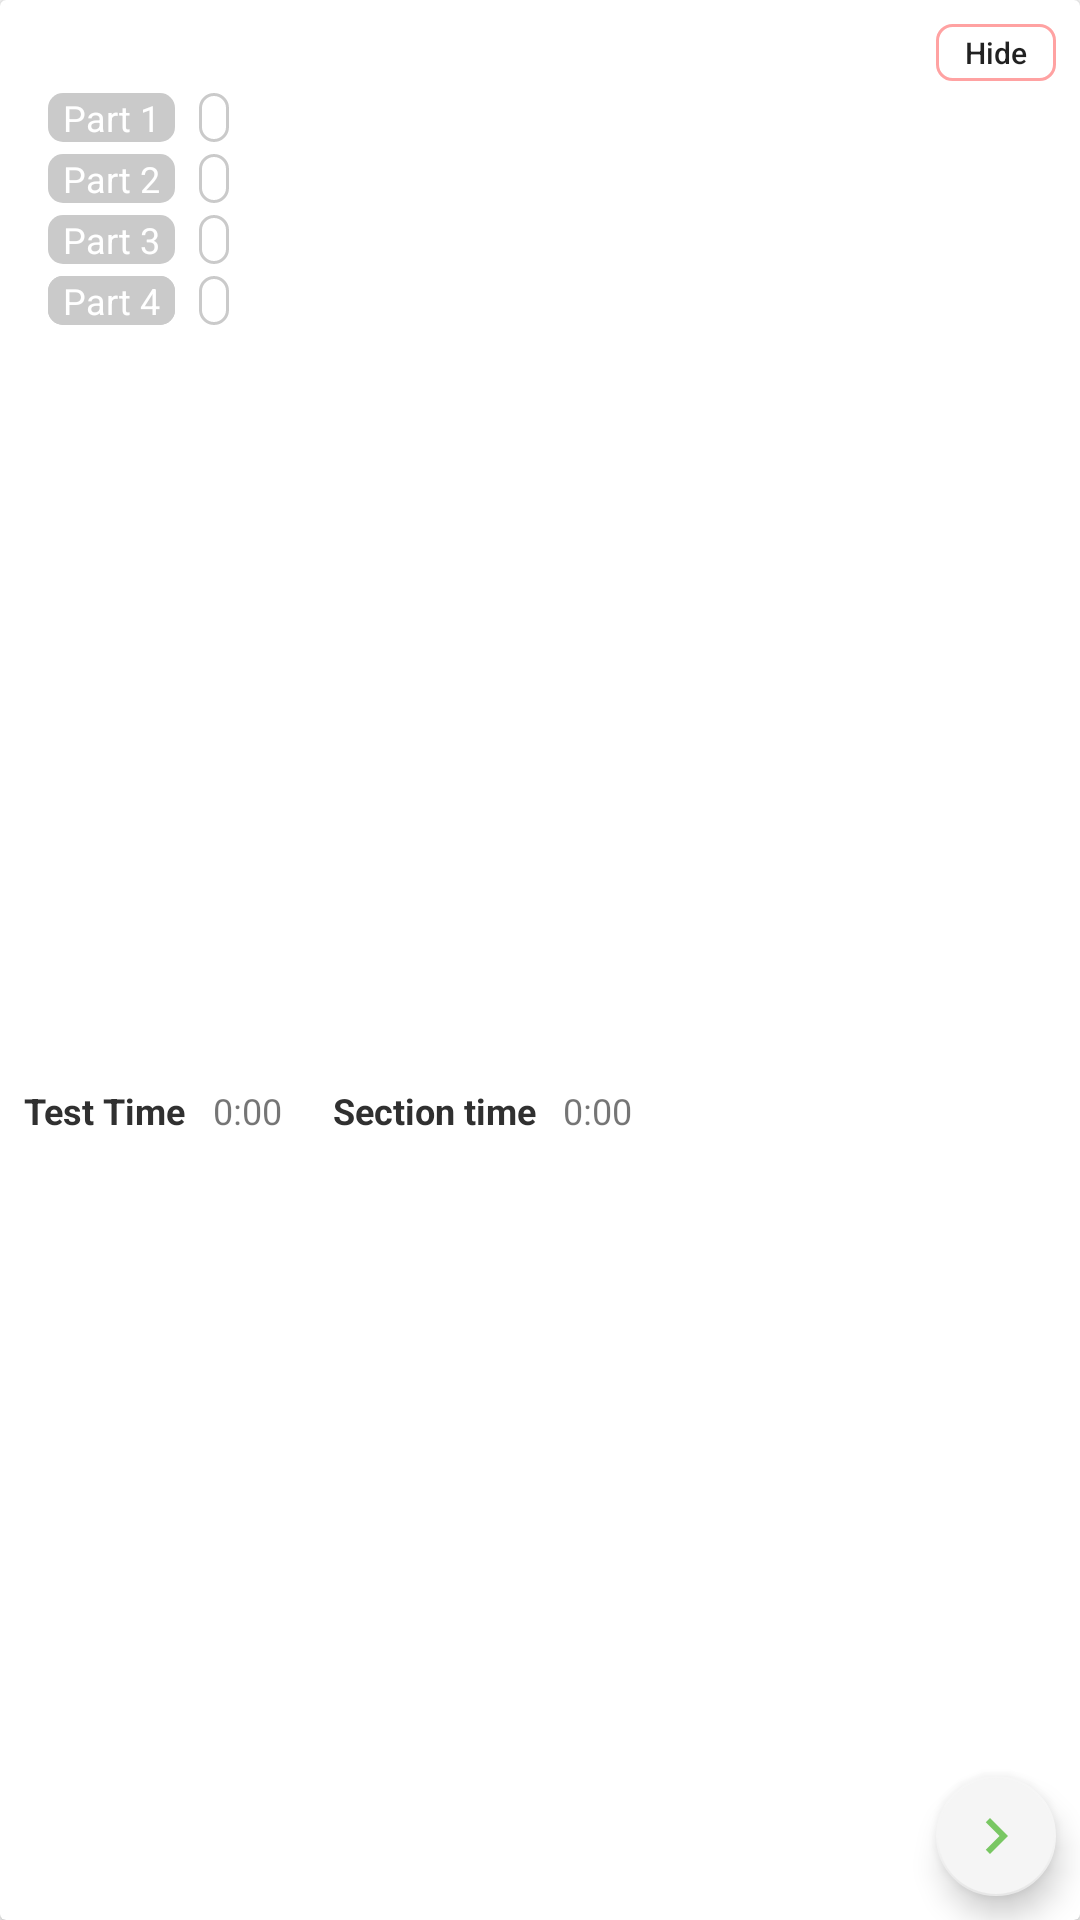

Where icons sit on this 1080*1920 app screen, as (x1, y1, x2, y2):
right arrow: (936, 1776, 1056, 1896)
